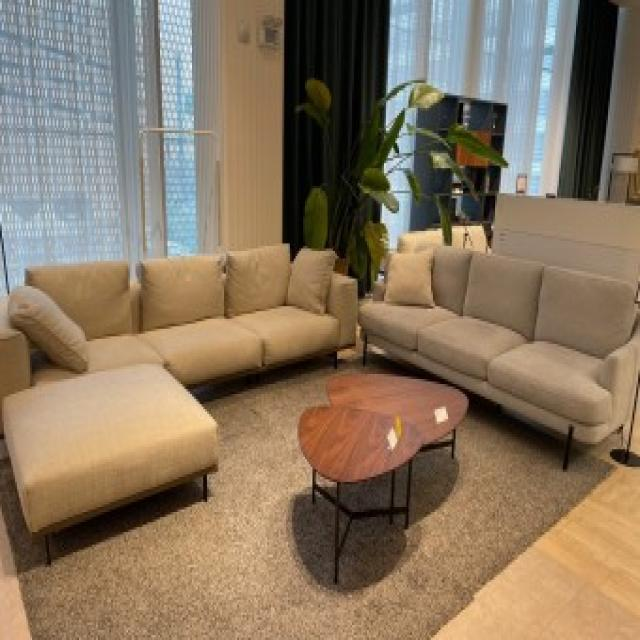Sofa: (1, 255, 346, 527), (362, 244, 636, 464)
Table: (297, 369, 470, 555)
window: (323, 5, 601, 222), (3, 2, 221, 243)
